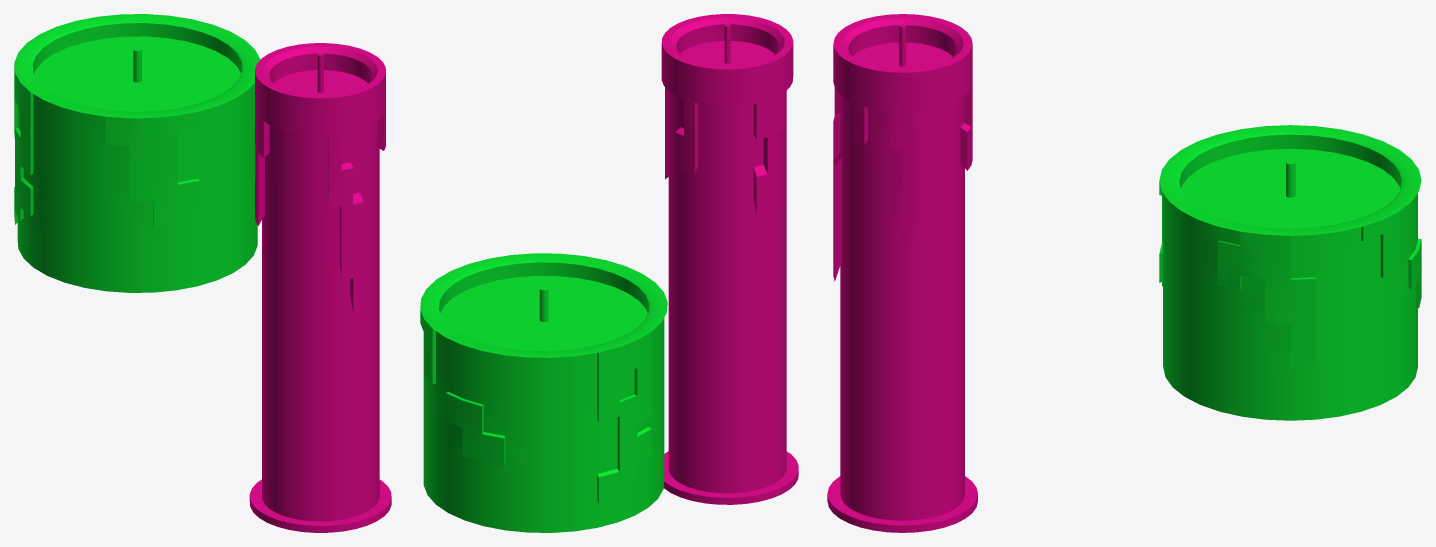
Rendered from SM_Velas_Low.fbx.
3 views of the same model, side by side, from view 1: azimuth 30°, elevation 25°; view 2: azimuth 150°, elevation 25°; view 3: azimuth 270°, elevation 25° (orthographic). The views are drawn at different scales.
Visible parts, largest first — view 1: SM_VelaPequeña_Low, SM_VelaGrande_Low; view 2: SM_VelaPequeña_Low, SM_VelaGrande_Low; view 3: SM_VelaPequeña_Low, SM_VelaGrande_Low.
Boxes of the visible parts, box(x1,y1,x2,y2) form: SM_VelaPequeña_Low: box(14, 14, 260, 292); SM_VelaGrande_Low: box(249, 43, 391, 532); SM_VelaPequeña_Low: box(420, 253, 667, 532); SM_VelaGrande_Low: box(661, 14, 798, 504); SM_VelaPequeña_Low: box(1159, 125, 1421, 420); SM_VelaGrande_Low: box(827, 14, 977, 532).
Bounding box in the file's own units: 420 × 840 × 952.
